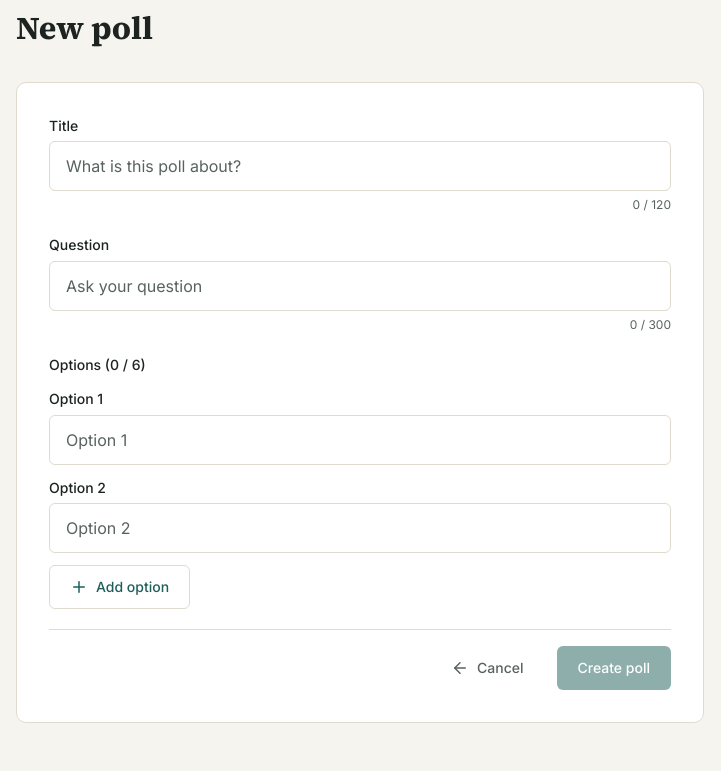
CreatePollPage › validates duplicate options and keeps submit button disabled
Type "Valid Title" into the field labelled "Title" at (360, 166), box x1=49 y1=141 x2=671 y2=191
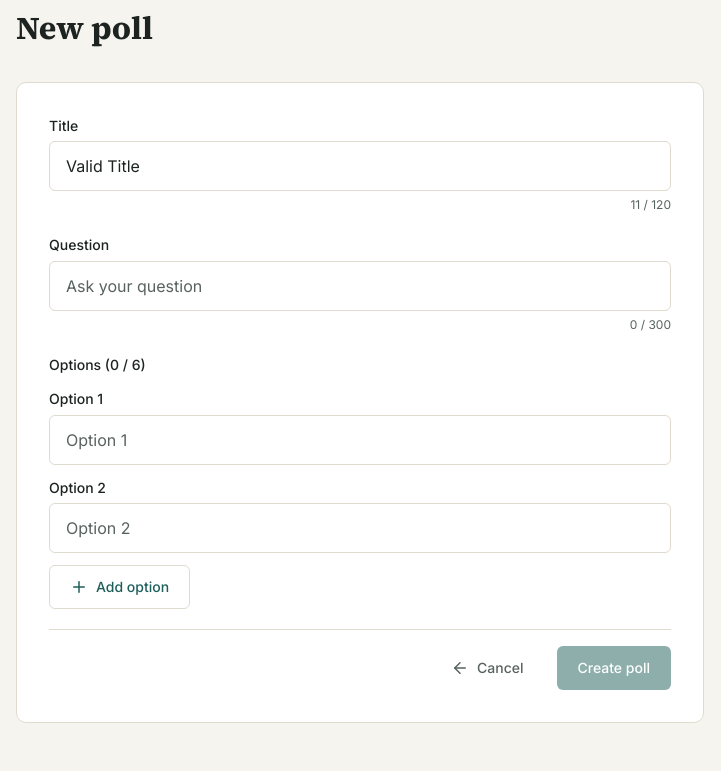
Type "Valid question text?" into the field labelled "Question" at (360, 286), box x1=49 y1=261 x2=671 y2=311
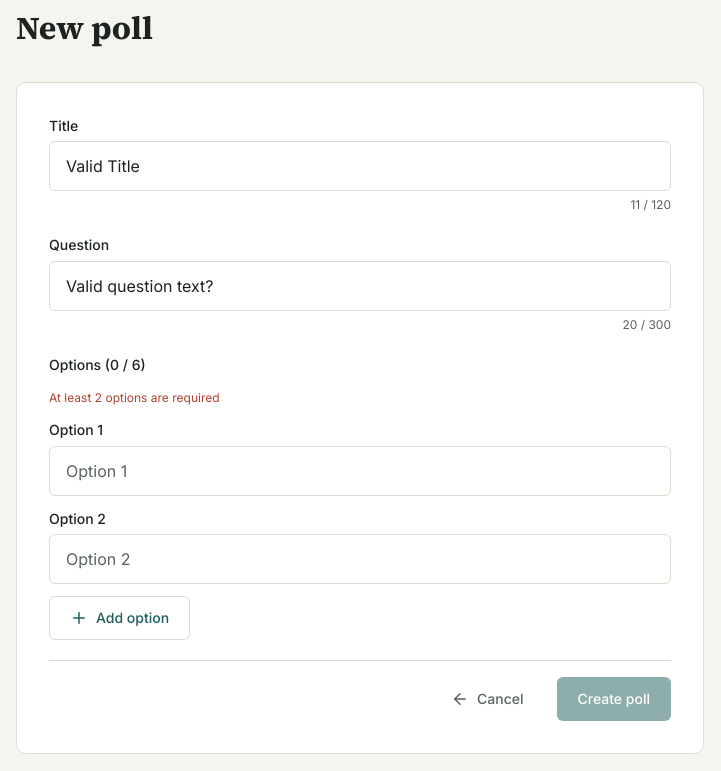
Type "Option A" into the field with placeholder "Option 1" at (360, 471), box x1=49 y1=446 x2=671 y2=496
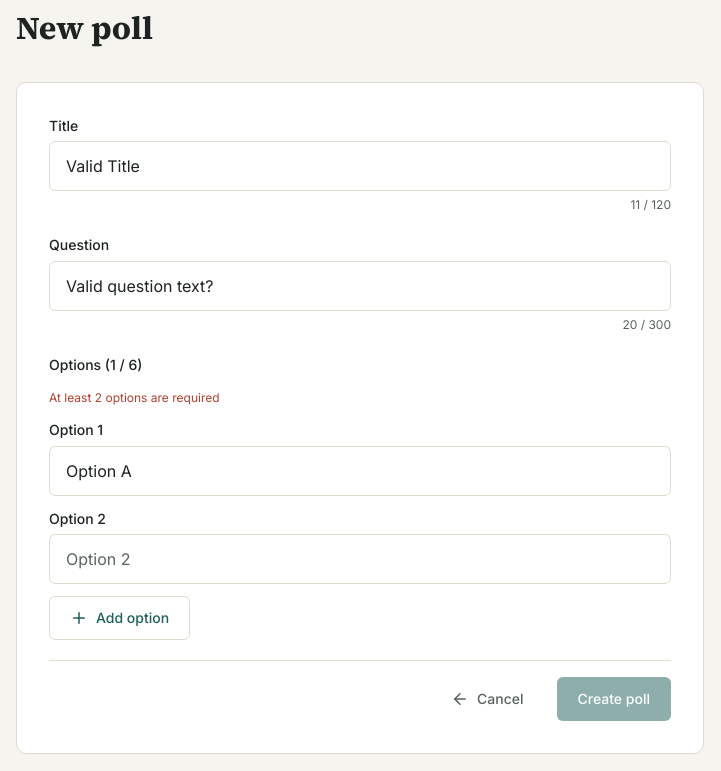
Type "option a" into the field with placeholder "Option 2" at (360, 559), box x1=49 y1=534 x2=671 y2=584
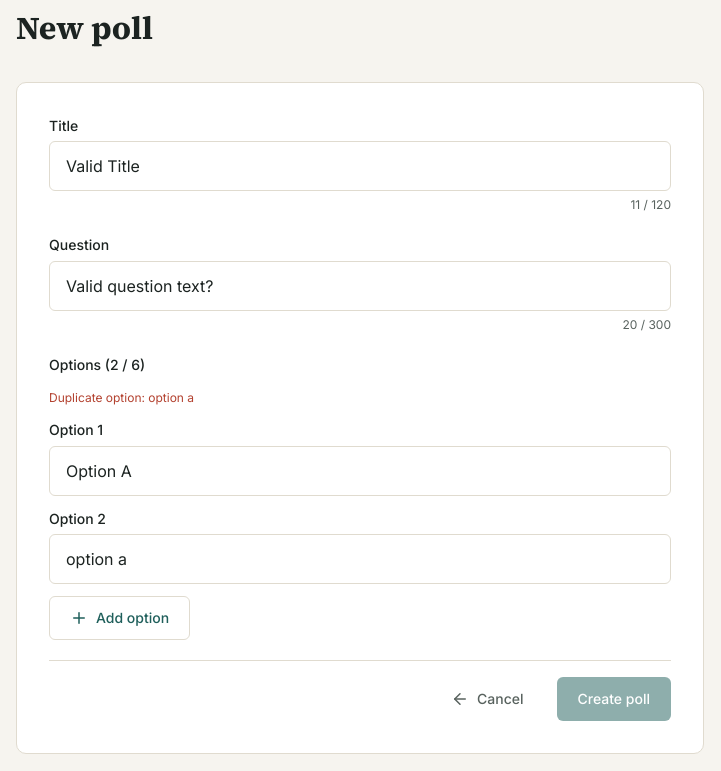
Expected: the button "Create poll" is disabled, x1=556 y1=677 x2=671 y2=721
Result: the text "Duplicate option: option a" is shown at x1=49 y1=390 x2=194 y2=405
